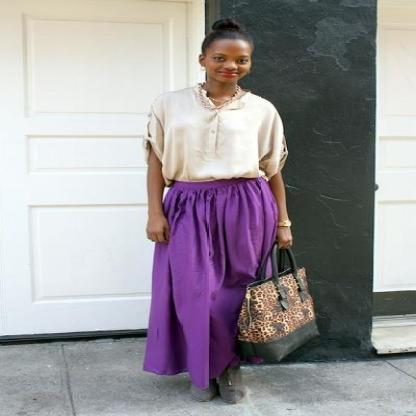bag: (231, 263, 315, 342)
shirt: (146, 83, 286, 183)
shoe: (179, 379, 243, 404)
skirt: (116, 177, 286, 386)
